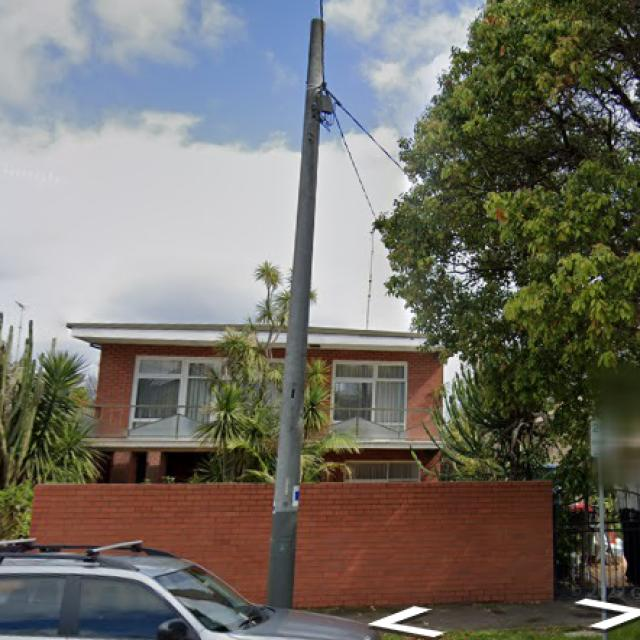concrete-pole: (266, 18, 327, 610)
